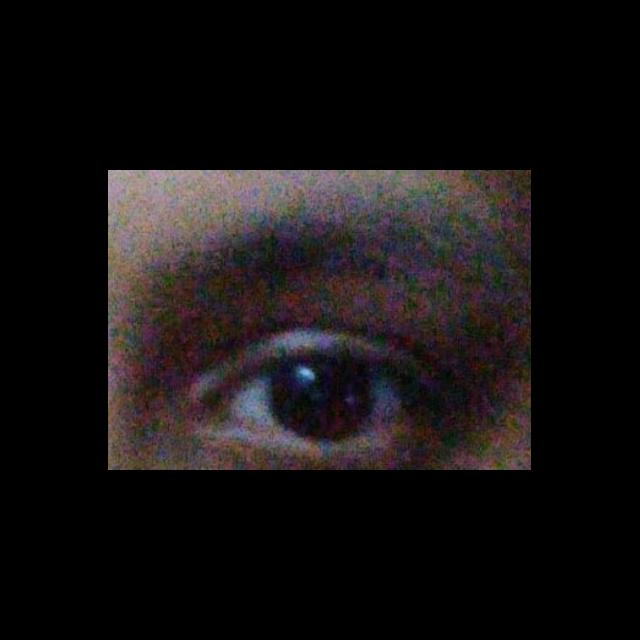eye: (229, 355, 410, 441)
iris: (271, 358, 375, 435)
